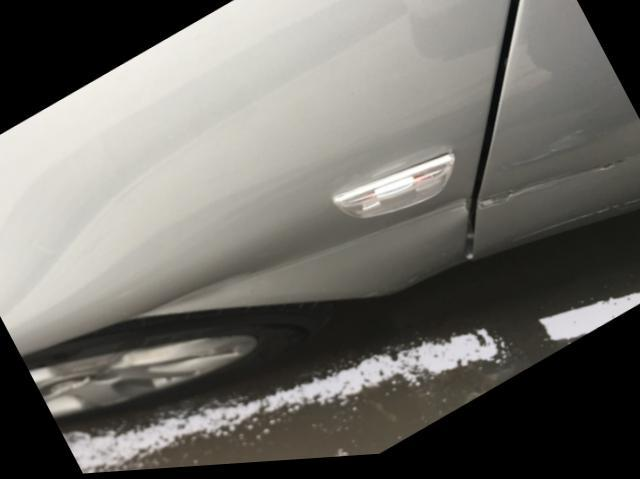scratch: (122, 190, 471, 322), (478, 167, 628, 215), (498, 114, 610, 178)
